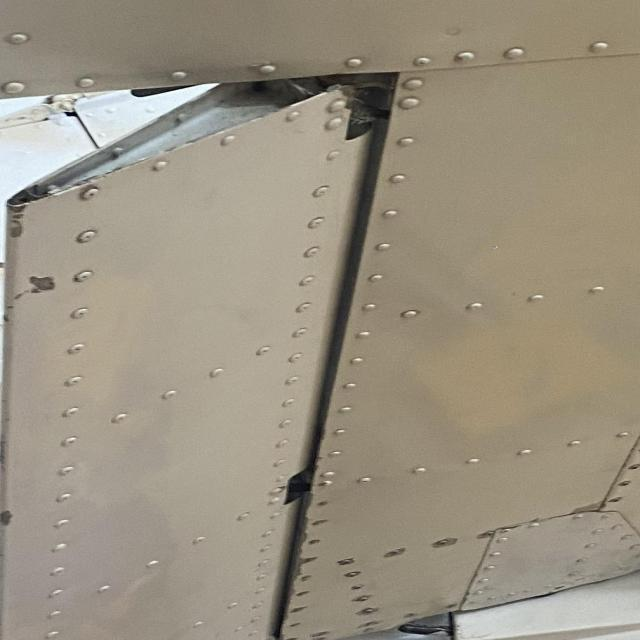Paint-off: (5, 200, 26, 242), (27, 275, 55, 294), (572, 502, 603, 512), (0, 509, 13, 527)
